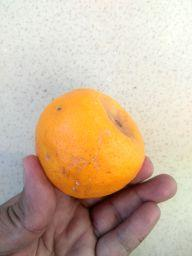Unripe: (36, 88, 141, 195)
